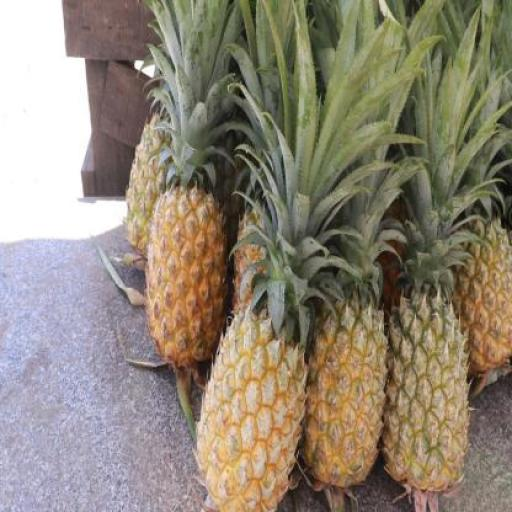------------------------------: (382, 292, 472, 498)
Pineapple - v8 v1: (200, 320, 308, 512), (308, 300, 389, 490), (148, 196, 224, 382), (453, 224, 512, 378)
